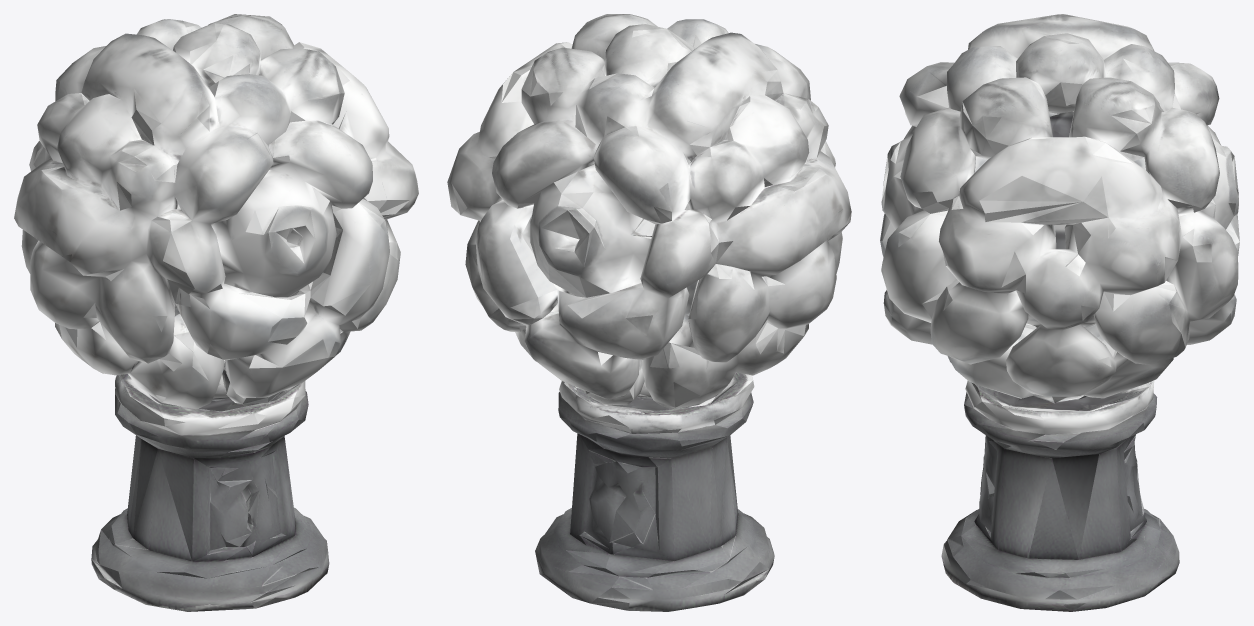
File: Orb.fbx
The picture shows the model from 3 angles, left to right: view 1: azimuth 30°, elevation 25°; view 2: azimuth 150°, elevation 25°; view 3: azimuth 270°, elevation 25°; orthographic projection.
Visible parts, largest first — view 1: Mesh_0; view 2: Mesh_0; view 3: Mesh_0.
Part boxes in pixels (x1=…): Mesh_0: x1=14, y1=14, x2=418, y2=611; Mesh_0: x1=447, y1=14, x2=851, y2=611; Mesh_0: x1=880, y1=14, x2=1239, y2=611.
Size of the model in its own units: 130 by 189 by 117.
Materials: 1 (1 with a texture image).
